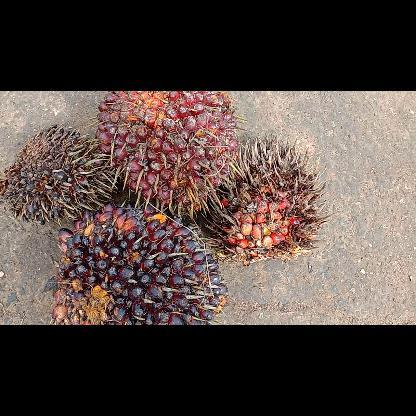Kurang masak: (44, 200, 230, 324)
TBS abnormal: (0, 122, 117, 227)
TBS masak: (94, 92, 244, 220)
Terlalu masak: (204, 134, 334, 264)
